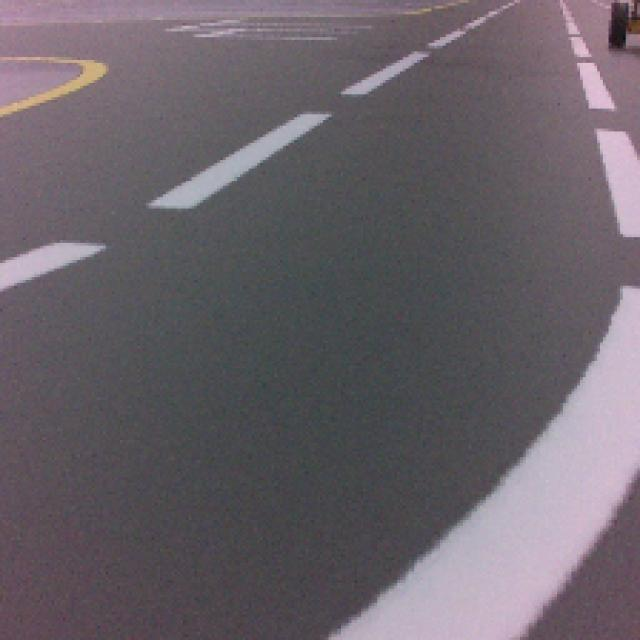Guard rail: (337, 288, 640, 640)
